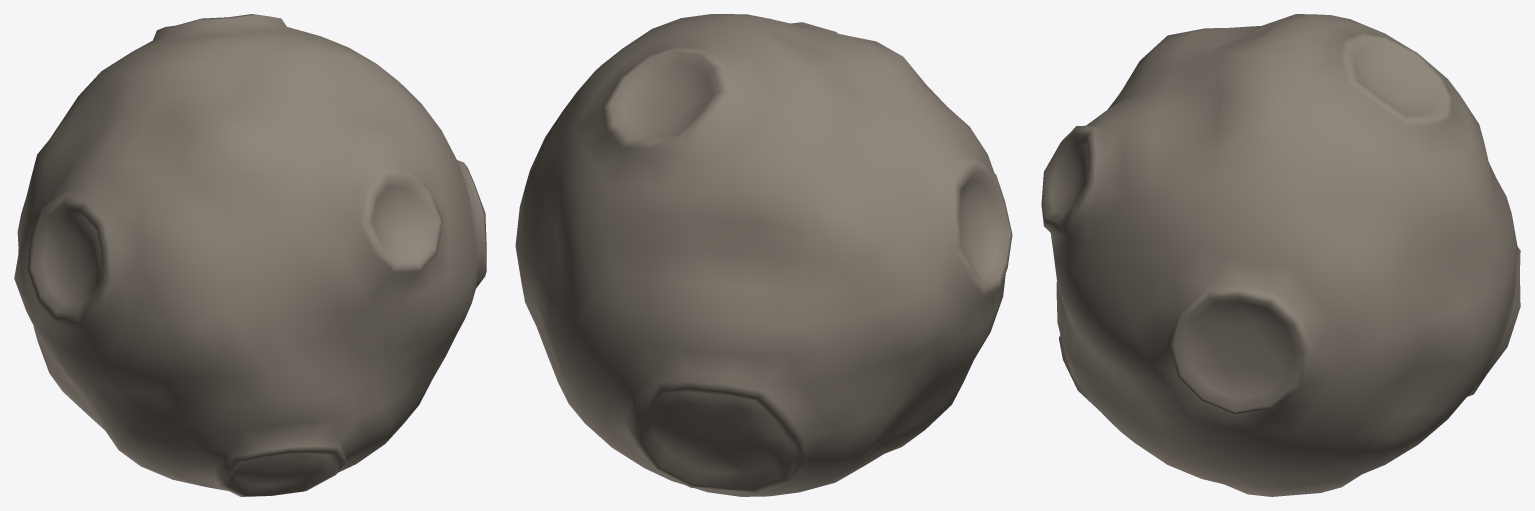
The model's file is Asteroid.fbx.
3 views of the same model, side by side, from view 1: azimuth 30°, elevation 25°; view 2: azimuth 150°, elevation 25°; view 3: azimuth 270°, elevation 25° (orthographic). The views are drawn at different scales.
Visible parts, largest first — view 1: Asteroid; view 2: Asteroid; view 3: Asteroid.
Boxes of the visible parts, x1,y1,x2,y2 form: Asteroid: [14, 14, 486, 496]; Asteroid: [515, 14, 1012, 496]; Asteroid: [1041, 14, 1520, 496].
Bounding box in the file's own units: 500 × 486 × 480.
